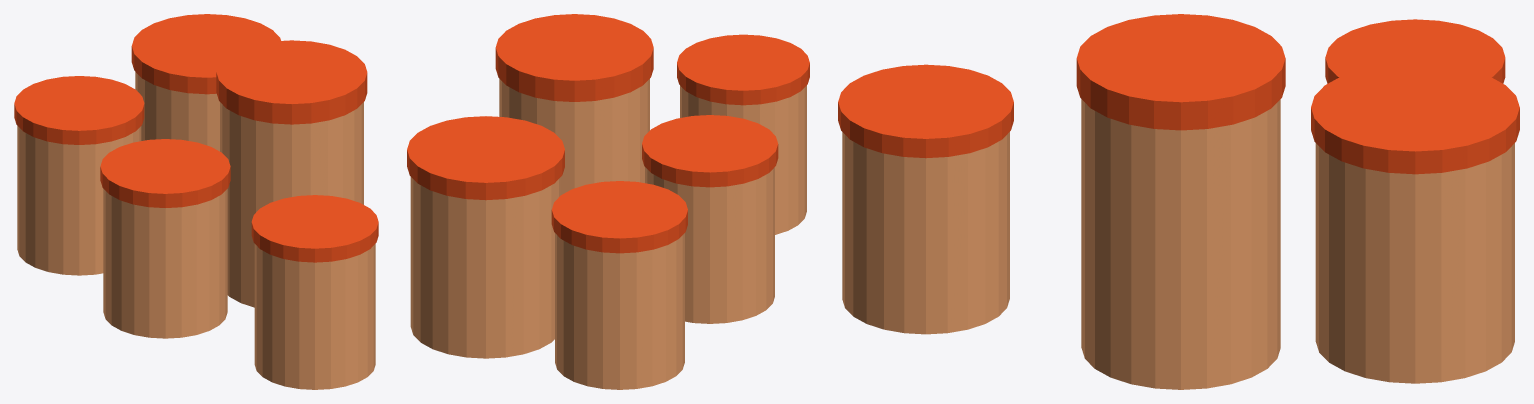
Rendered from wadah1.obj.
The picture shows the model from 3 angles, left to right: view 1: azimuth 30°, elevation 25°; view 2: azimuth 150°, elevation 25°; view 3: azimuth 270°, elevation 25°; orthographic projection. The views are drawn at different scales.
Parts seen in each view (by area): view 1: Wood_jar_Cylinder.010; view 2: Wood_jar_Cylinder.010; view 3: Wood_jar_Cylinder.010.
Boxes of the visible parts, bbox=[...] form: Wood_jar_Cylinder.010: bbox=[14, 14, 378, 389]; Wood_jar_Cylinder.010: bbox=[407, 14, 809, 389]; Wood_jar_Cylinder.010: bbox=[838, 14, 1519, 389].
Size of the model in its own units: 0.6447 by 0.517 by 1.1.
